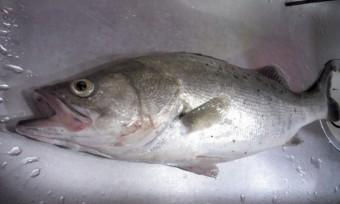fish: (6, 52, 339, 176)
